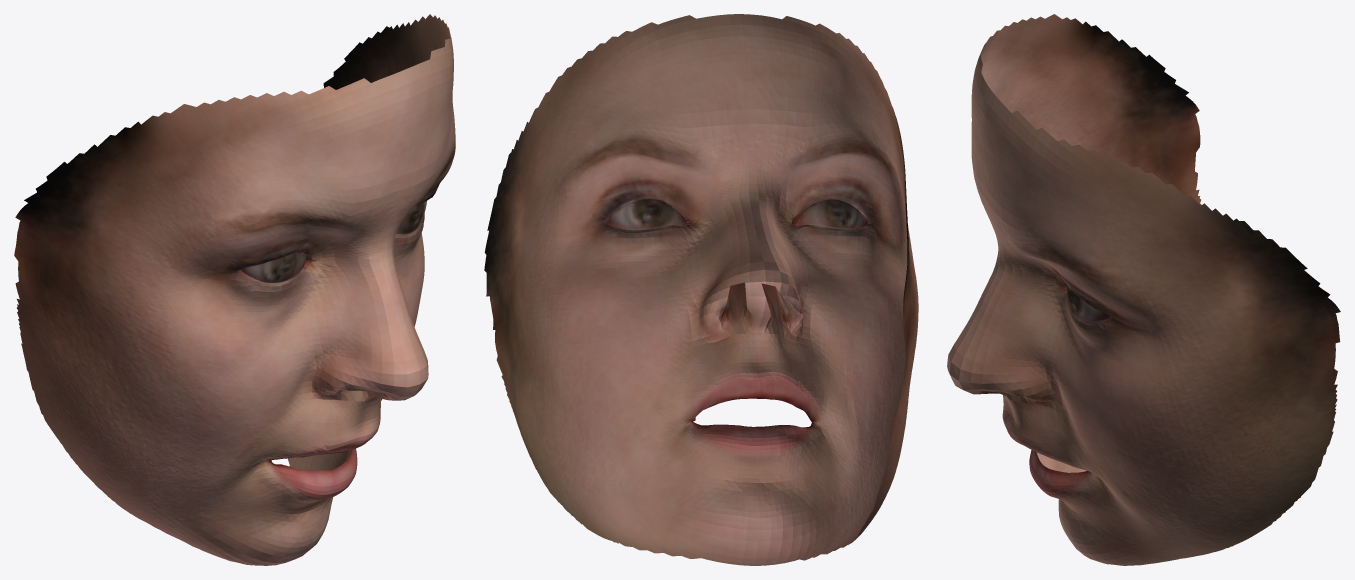
Rendered from frame_931_mesh.obj.
3 views of the same model, side by side, from view 1: azimuth 30°, elevation 25°; view 2: azimuth 150°, elevation 25°; view 3: azimuth 270°, elevation 25° (orthographic). The views are drawn at different scales.
Bounding box in the file's own units: 1.32 × 1.66 × 1.18.
